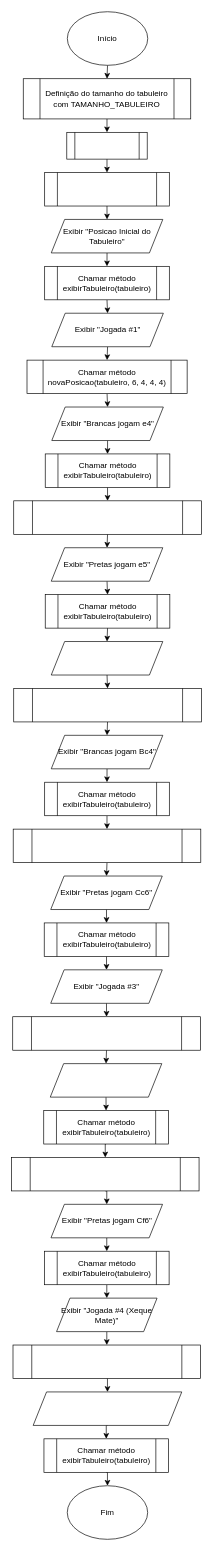
Some shapes in this 214 by 1551 pixel diagram are drawn without their labels. The box of each missing label's shape, as (x1, y1, x2, y2) in pixels:
Chamar método novaPosicao(tabuleiro, 0, 1, 2, 2): (13, 828, 201, 863)
Chamar método novaPosicao(tabuleiro, 0, 6, 2, 5): (11, 1157, 199, 1191)
Chamar método novaPosicao(tabuleiro, 1, 4, 3, 4): (13, 500, 201, 534)
Chamar método novaPosicao(tabuleiro, 3, 7, 1, 5): (12, 1344, 201, 1379)
Chamar método novaPosicao(tabuleiro, 7, 3, 3, 7): (12, 1016, 200, 1050)
Chamar método novaPosicao(tabuleiro, 7, 5, 4, 2): (13, 688, 201, 722)
Chamar método posicaoIncial(tabuleiro): (44, 172, 169, 206)
Criar Matriz tabuleiro [8] [8]: (66, 132, 147, 159)
Exibir "Brancas capturam Peao PP6 em f7 e Xeque MATE (Dxf7#)": (32, 1391, 182, 1425)
Exibir "Brancas jogam Dh5": (50, 1063, 162, 1097)
Exibir "Jogada #2": (51, 641, 163, 675)
